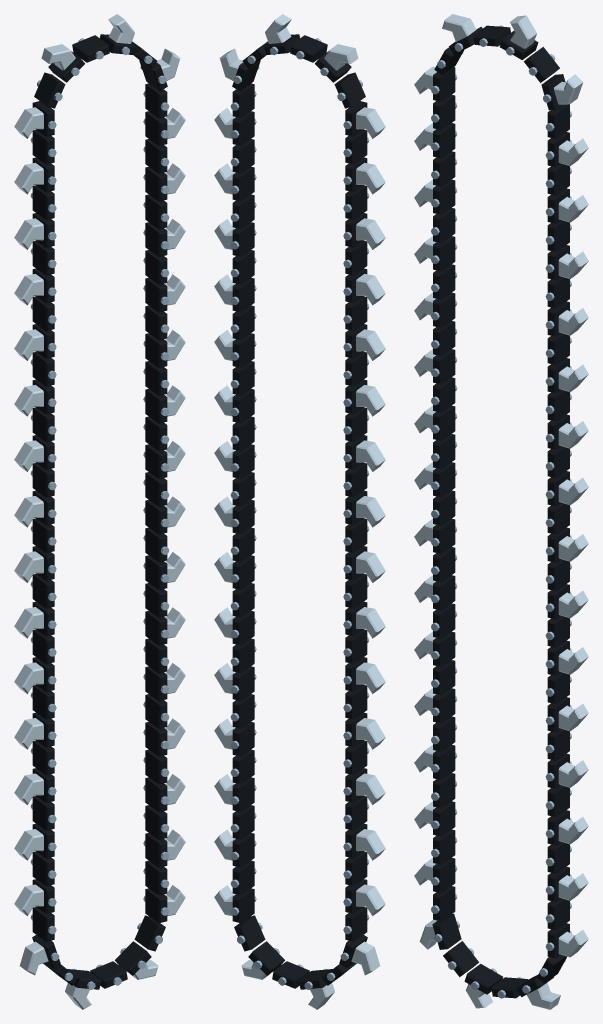
The model's file is RulerChainsaw_Chain.obj.
3 renders of one model, left to right at view 1: azimuth 30°, elevation 25°; view 2: azimuth 150°, elevation 25°; view 3: azimuth 330°, elevation 25°, orthographic.
Parts seen in each view (by area): view 1: ChainSteel, CuttingSteel, Steel; view 2: ChainSteel, CuttingSteel, Steel; view 3: ChainSteel, CuttingSteel, Steel.
Boxes of the visible parts, x1,y1,x2,y2 form: ChainSteel: (32,34,167,989); CuttingSteel: (14,14,185,1009); Steel: (30,34,169,989); ChainSteel: (232,34,367,989); CuttingSteel: (214,14,385,1009); Steel: (230,34,369,989); ChainSteel: (432,25,569,998); CuttingSteel: (414,14,588,1009); Steel: (431,25,571,998).
Bounding box in the file's own units: 0.23 × 1.31 × 0.046.
